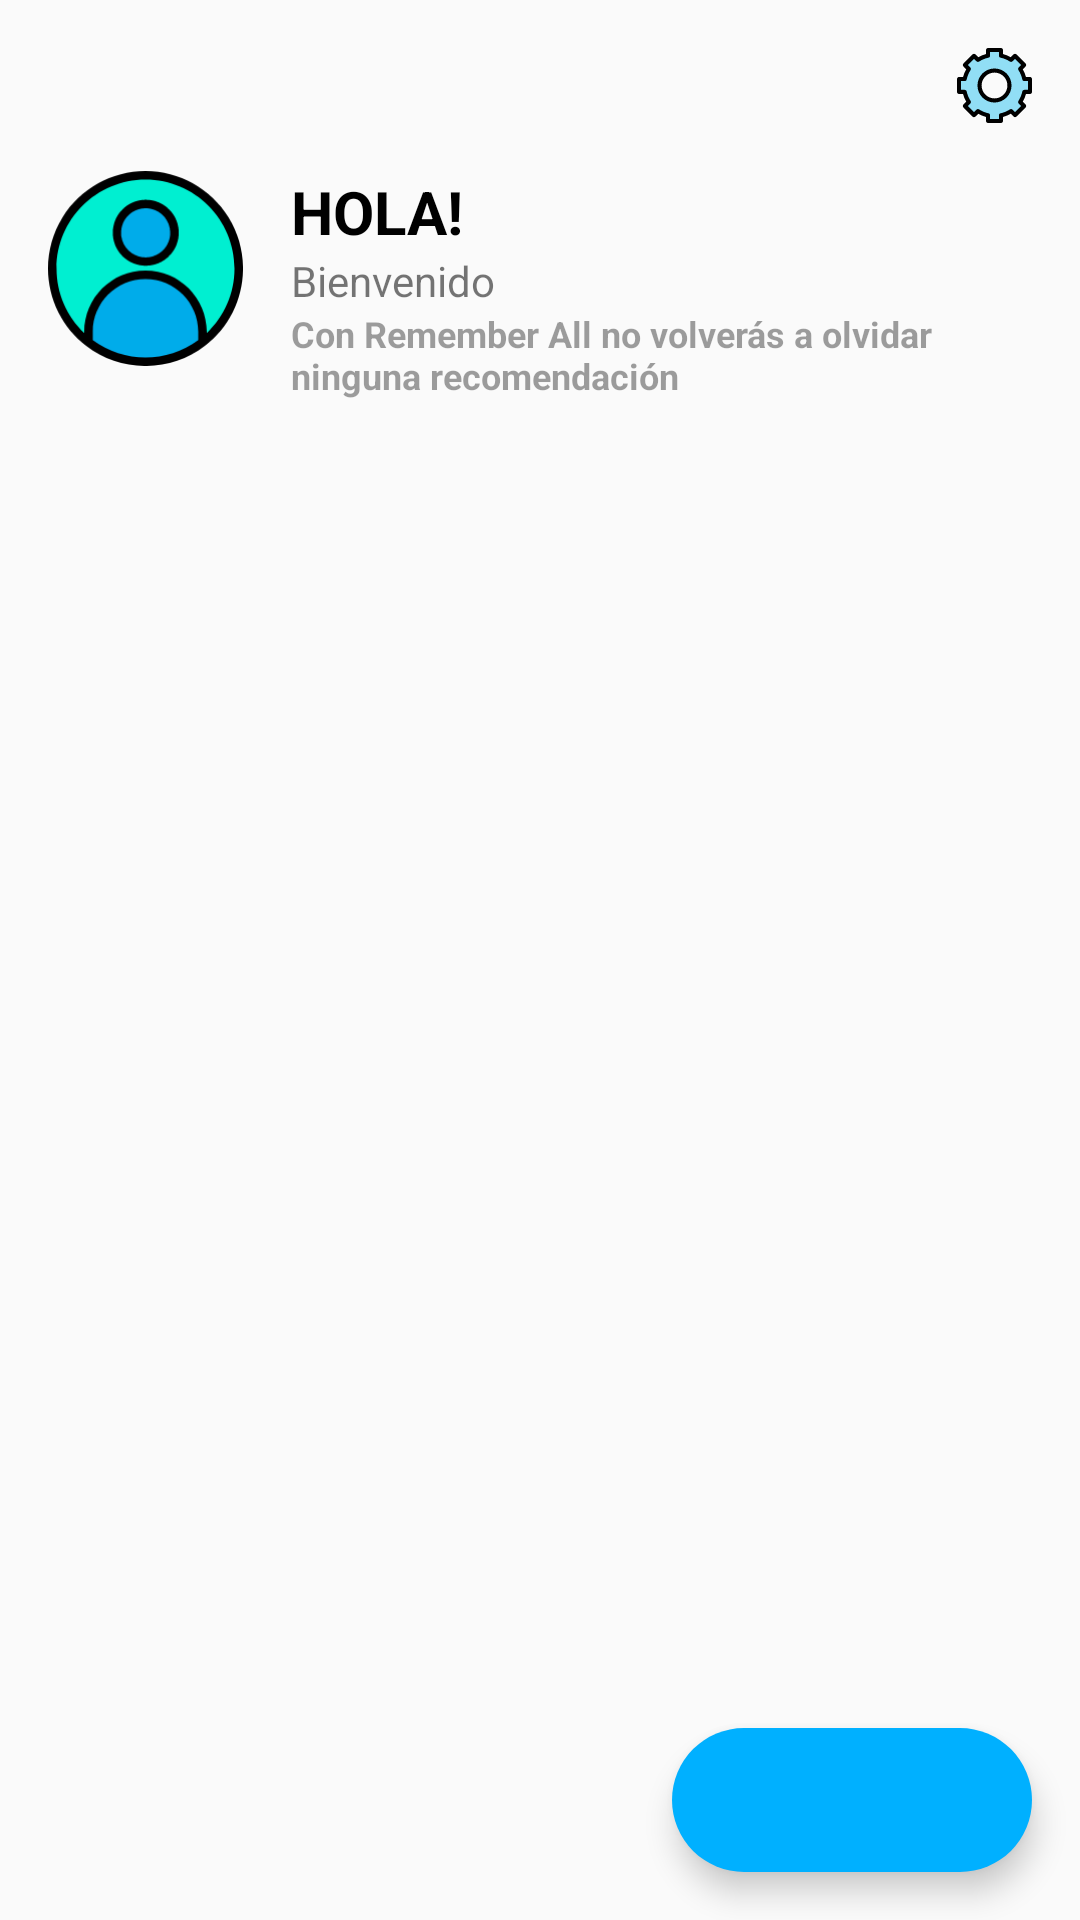

Icon bounding boxes for this 1080*1920 phone screenshot, format [x1, y1, x2, y2]:
picture profile: [48, 171, 243, 366]
settings: [957, 48, 1032, 123]
